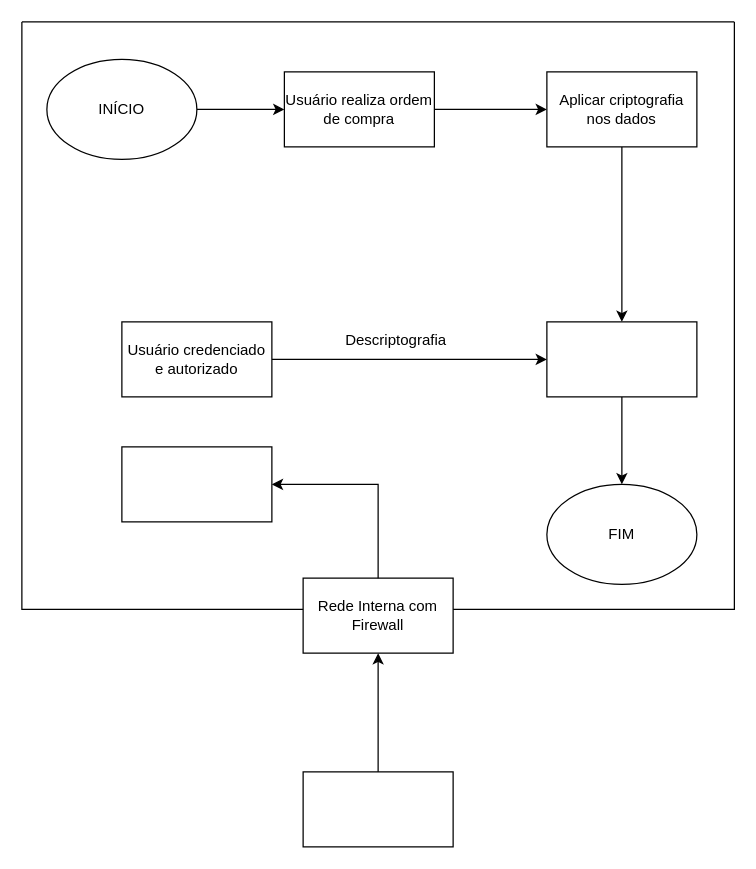
This 756x869 diagram has some shape labels left out. Each missing label, with the centre of its shape:
Banco de dados: point (621, 359)
Registro de acessos externos: point (196, 484)
Usuário não autorizado: point (377, 809)
